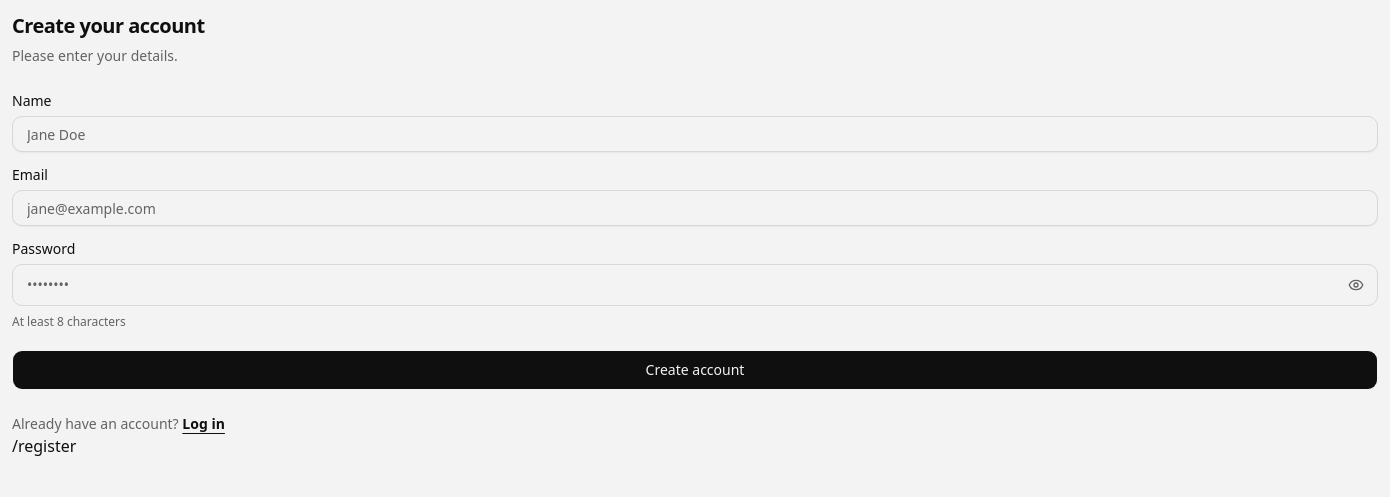
it: FE-067 · RegisterPage (doc 10 §10.22 PG-01; doc 6 PG-01; doc 11 §11.2.17) › server 409: maps duplicate email error to email field and focuses email input
In the field labelled "Name": {"x": 695, "y": 134} [12,116,1378,152], type "Taylor Dev"
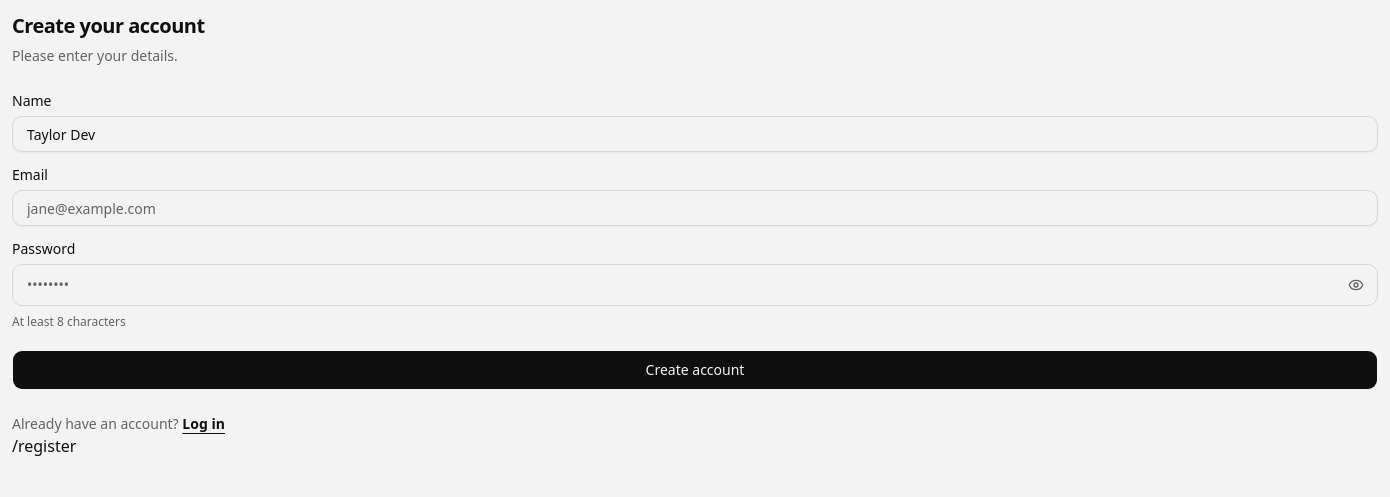
In the field labelled "Email": {"x": 695, "y": 208} [12,190,1378,226], type "taylor@example.com"
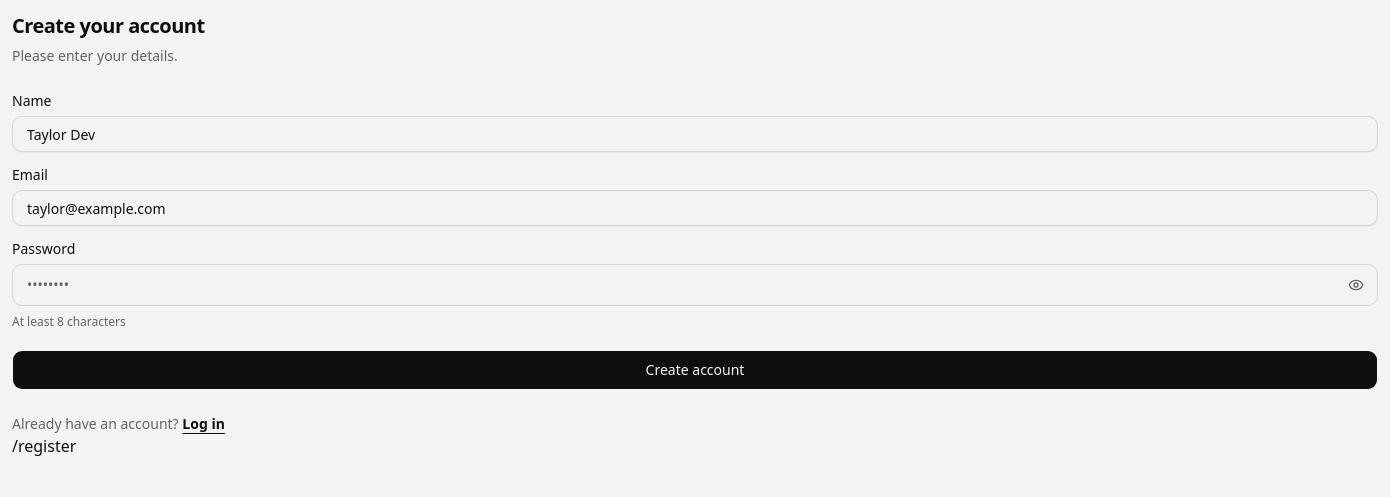
In the password field labelled "Password": {"x": 695, "y": 285} [12,264,1378,306], type "password123"
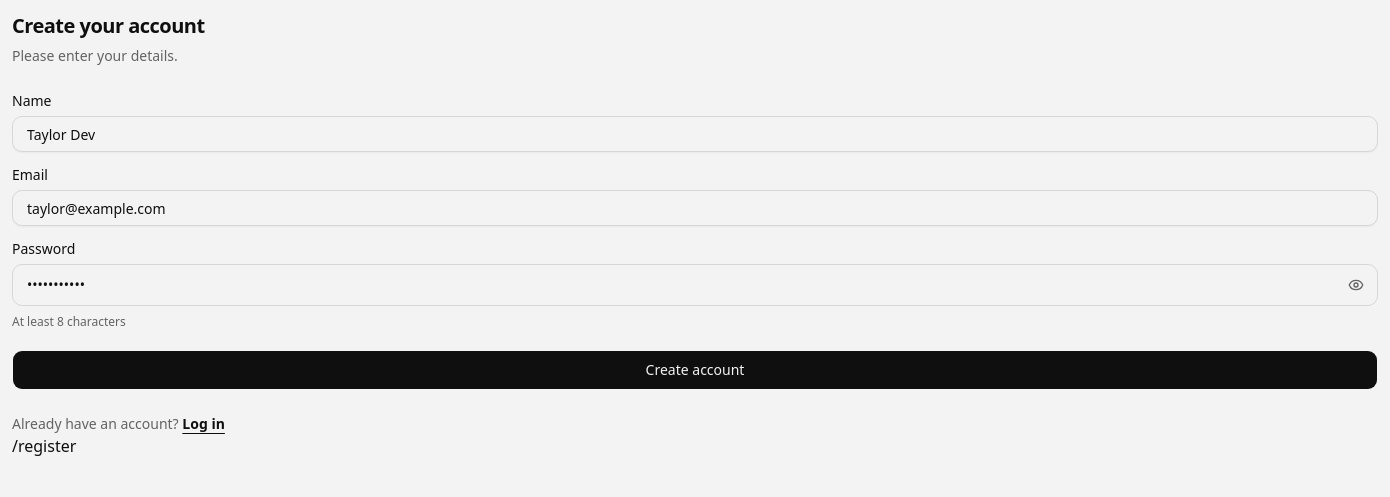
Click the button "Create account": {"x": 695, "y": 370} [12,350,1378,390]
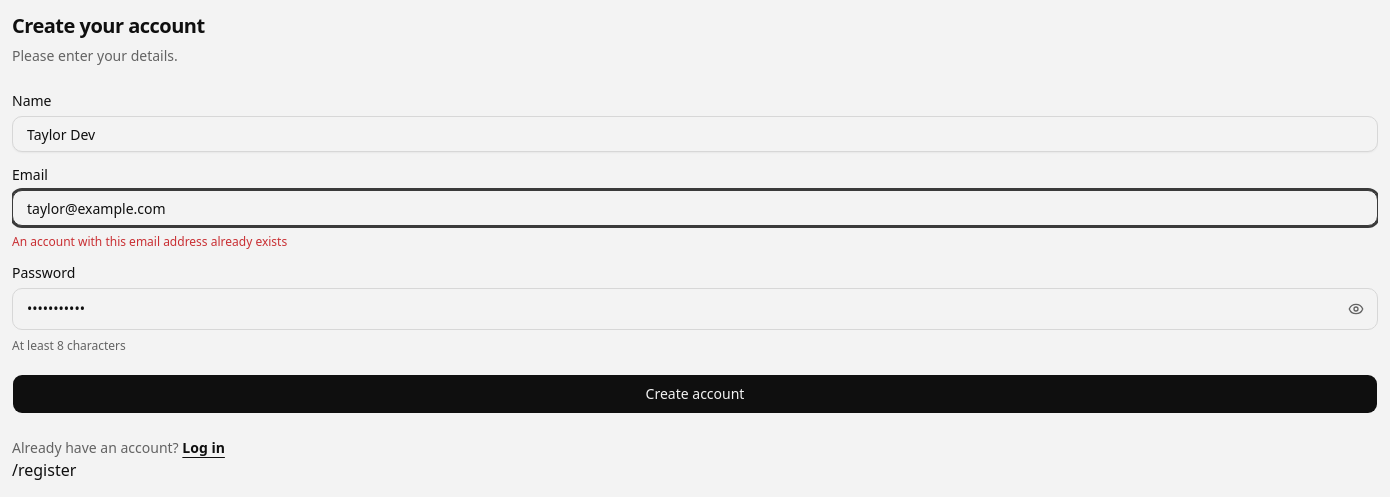
Result: the text "An account with this email address already exists" is shown at [12,233,287,250]
